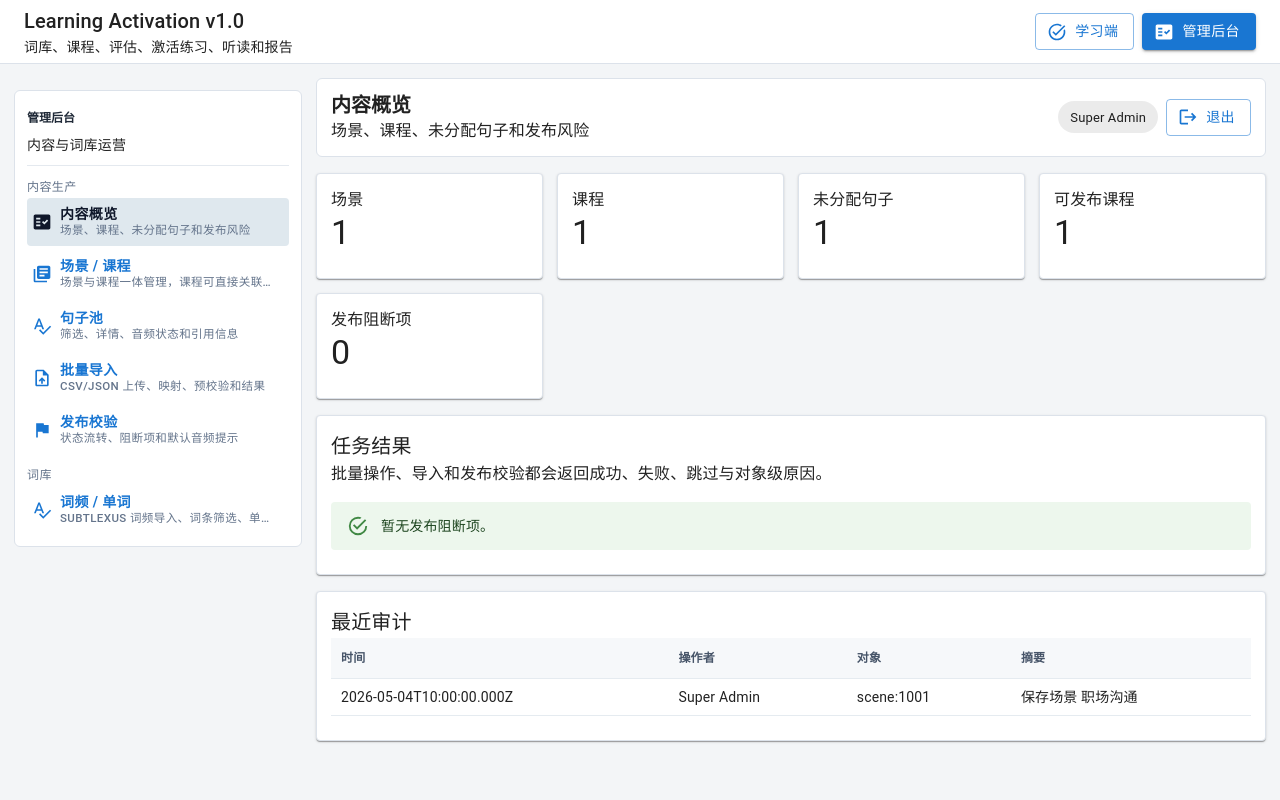
App v1.0 shell › supports content admin creation and audit visibility
Expected: the heading "最近审计" is shown, [331,610,412,634]
Click the button "场景 / 课程 场景与课程一体管理，课程可直接关联句子" at (158, 274), box [27,250,289,298]
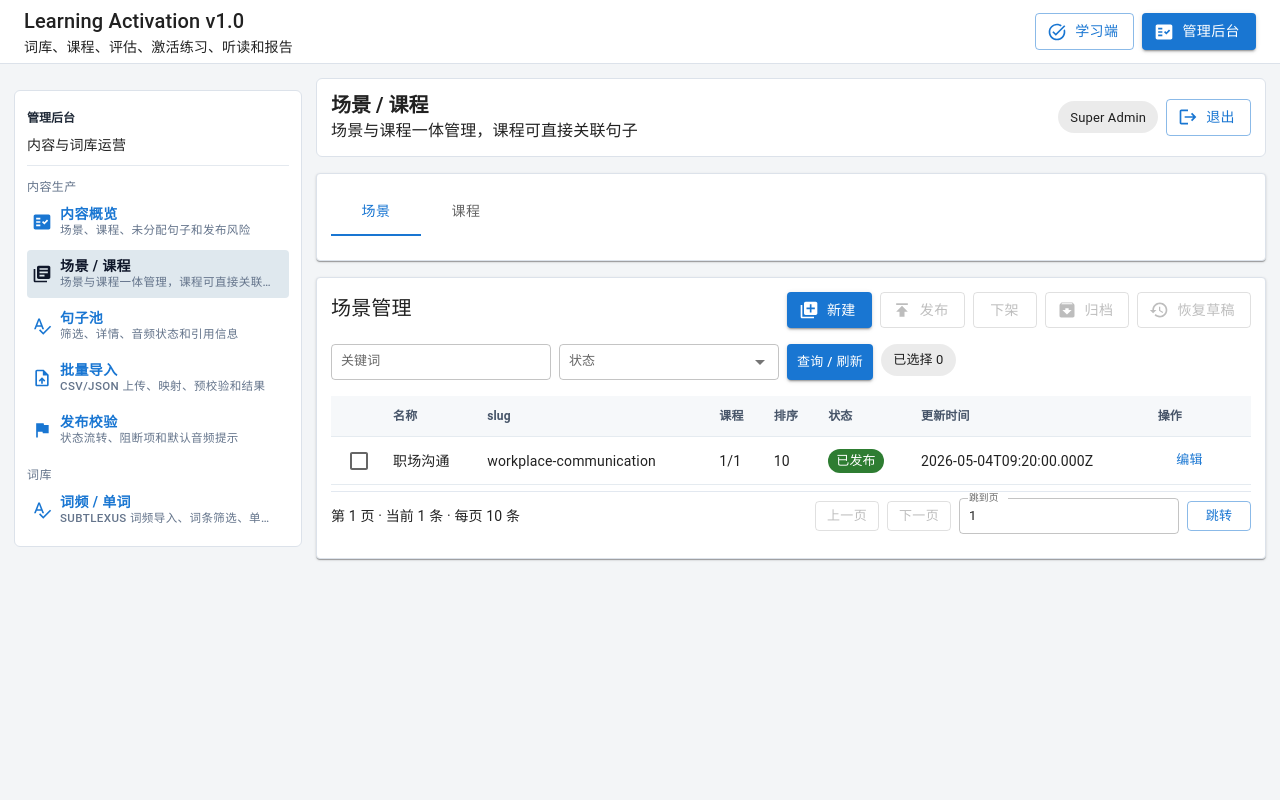
Click the button "新建" at (829, 310), box [787,292,872,328]
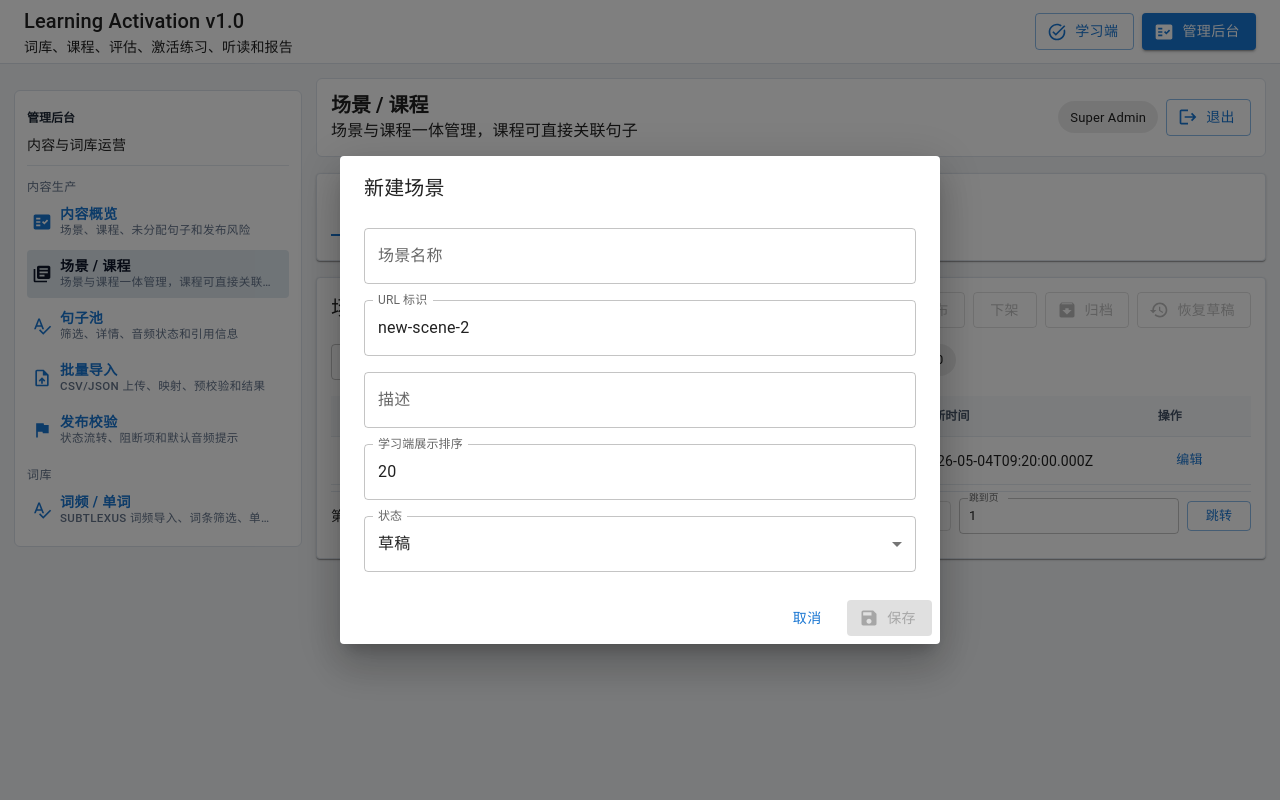
Now the heading "新建场景" is shown, box [364,176,445,200]
Type "新建场景" into the field labelled "场景名称" at (640, 256), box [364,228,916,284]
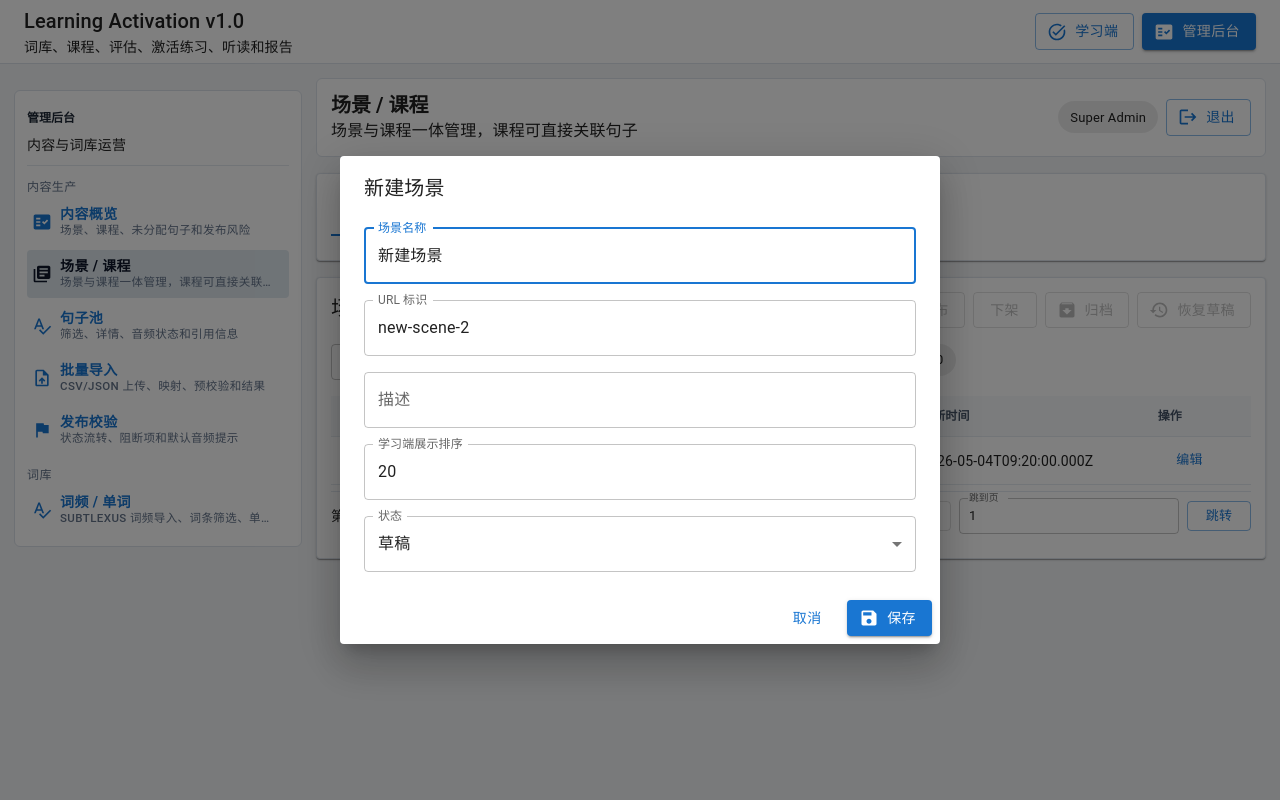
Click the button "保存" at (890, 618), box [847,600,932,636]
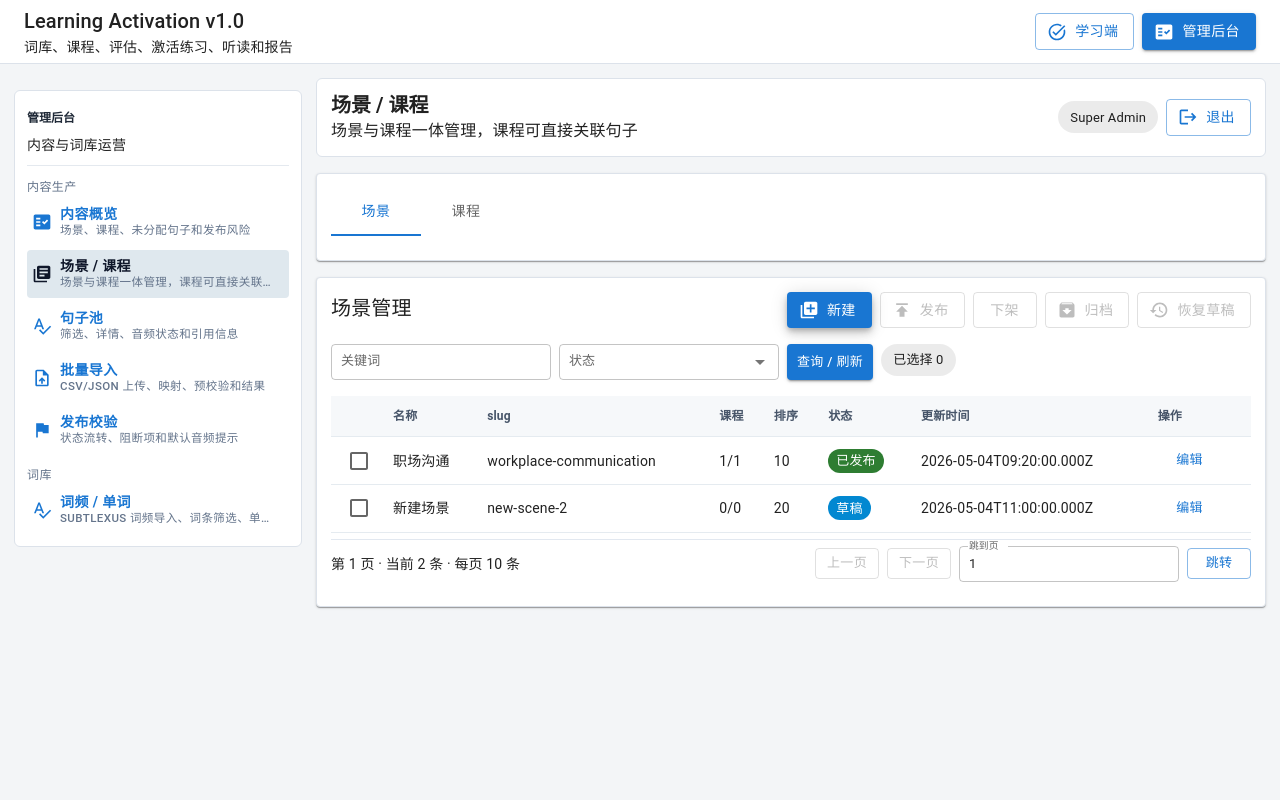
Click the button "内容概览 场景、课程、未分配句子和发布风险" at (158, 222), box [27,198,289,246]
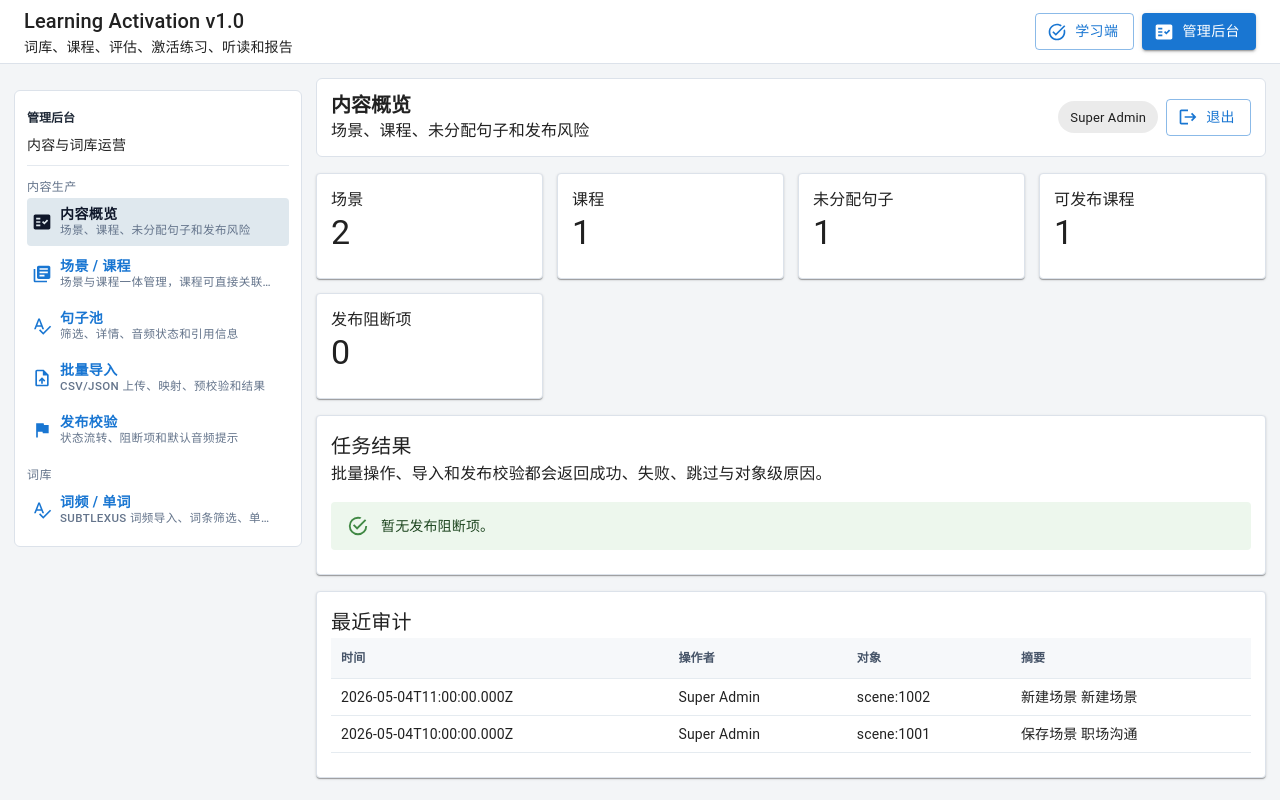
Now the text "新建场景 新建场景" is shown, box [1011,678,1251,715]
